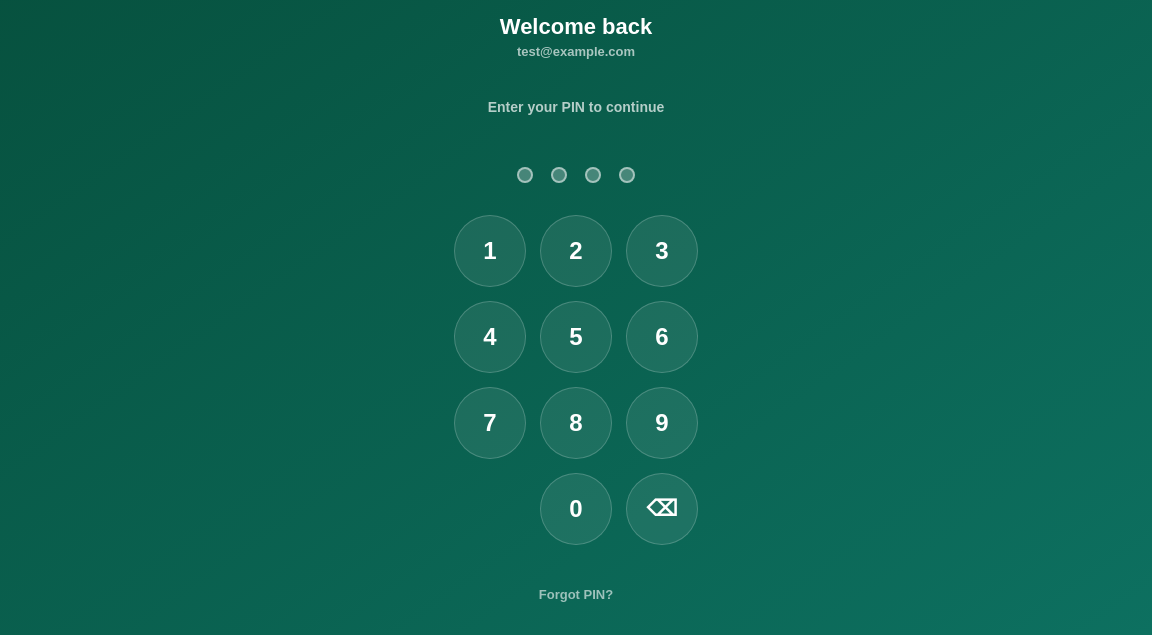
PinScreen › shows success message after forgot flow completes
(page scrolled)
Click the button with test id "forgot-pin-btn". click: click(576, 594)
box: 539,587 -> 613,602
(page scrolled)
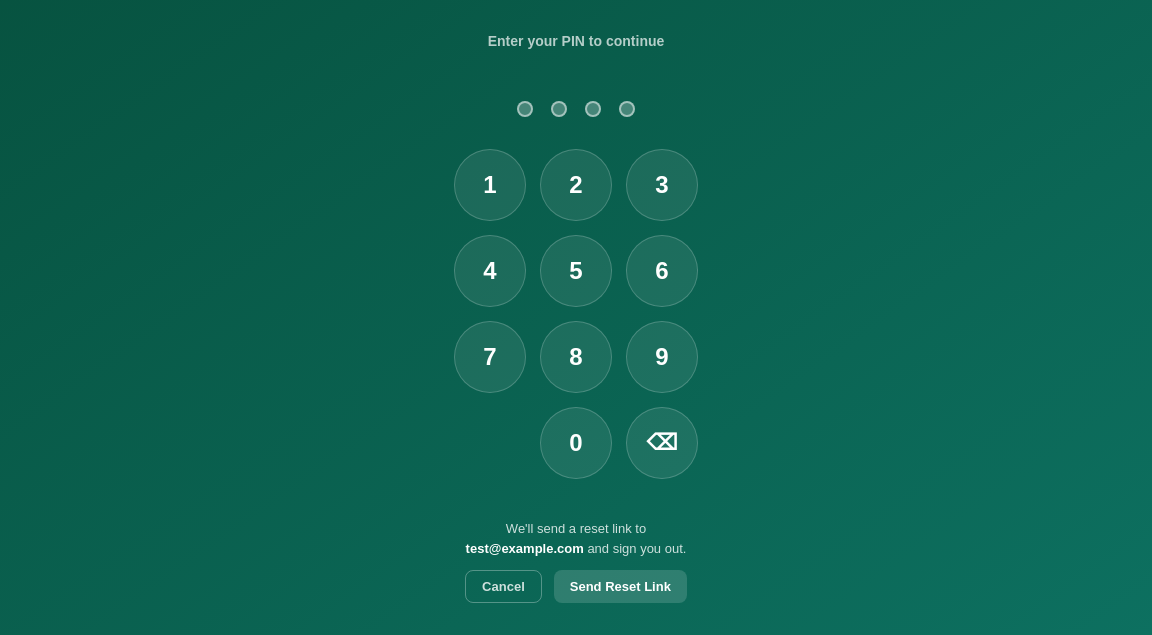
Click the button with test id "forgot-pin-confirm-btn". click: click(620, 586)
box: 554,570 -> 687,603
(page scrolled)
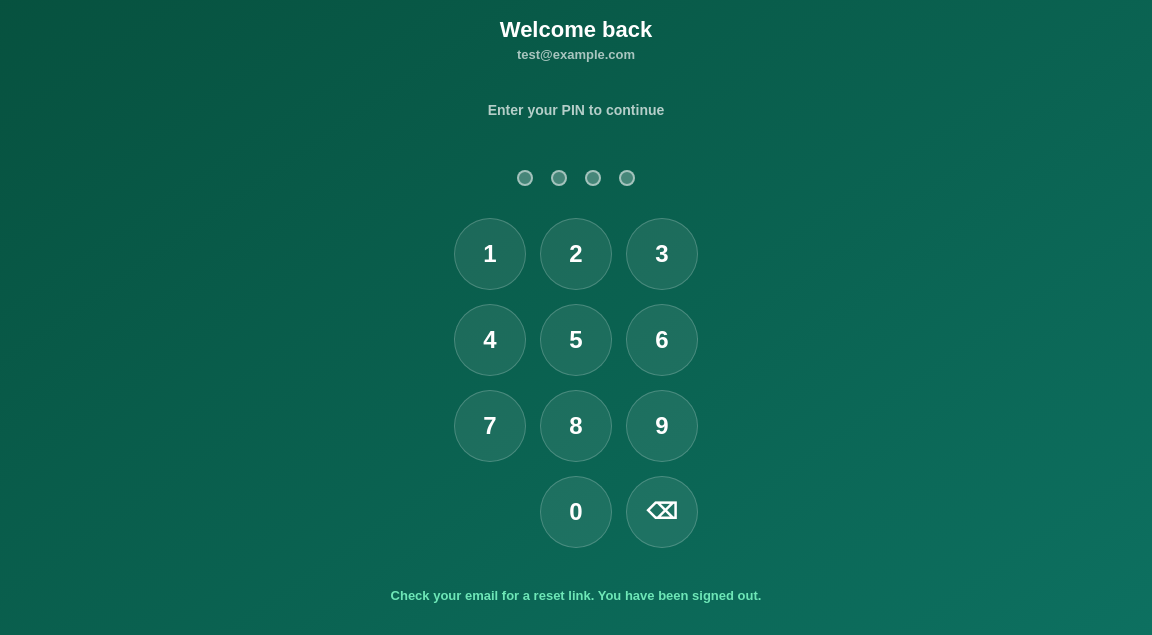
Result: the text "Check your email for a reset link. You have been signed out." is shown at 391,588 -> 762,603
